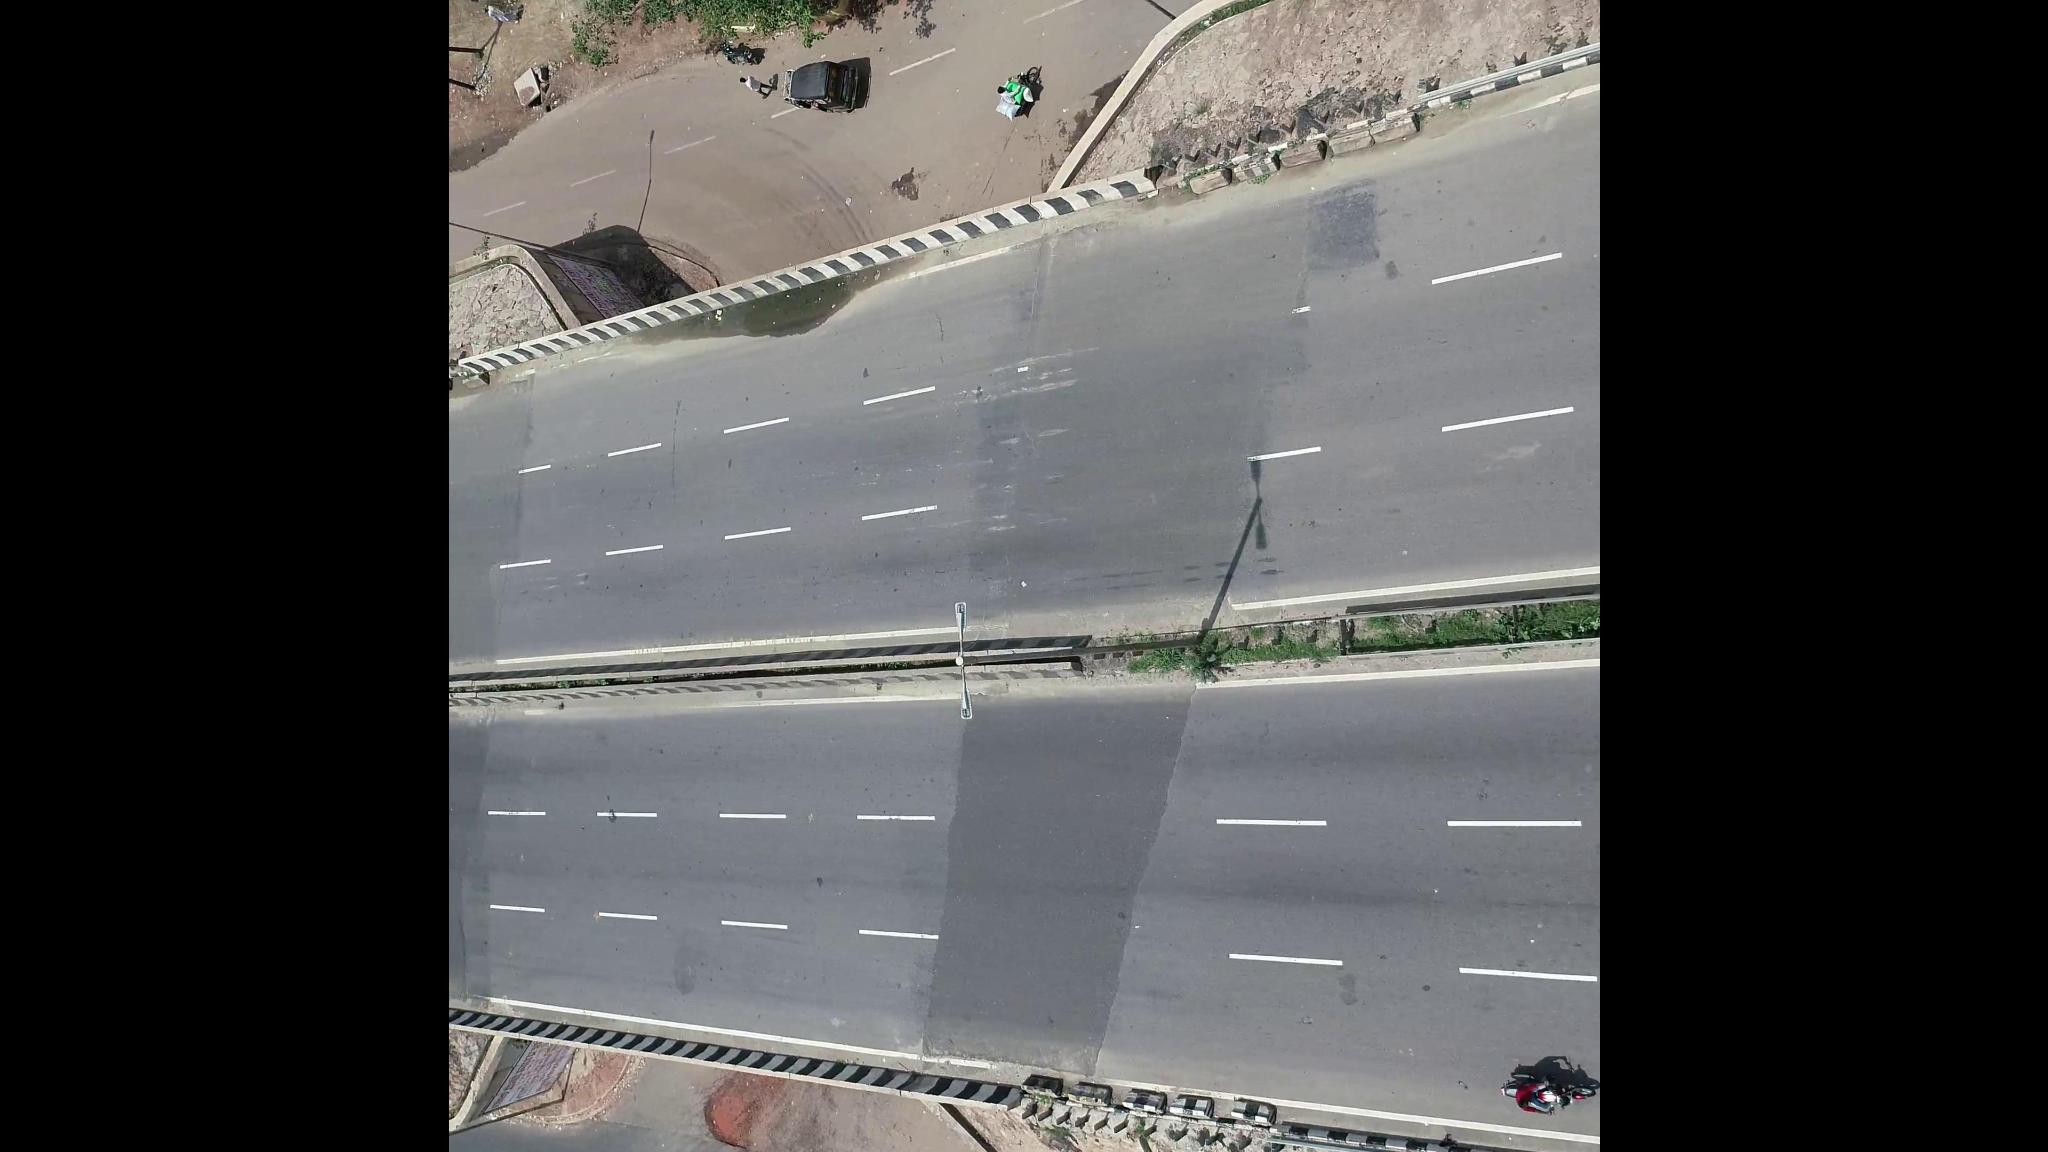Potholes: (670, 1094, 786, 1152)
